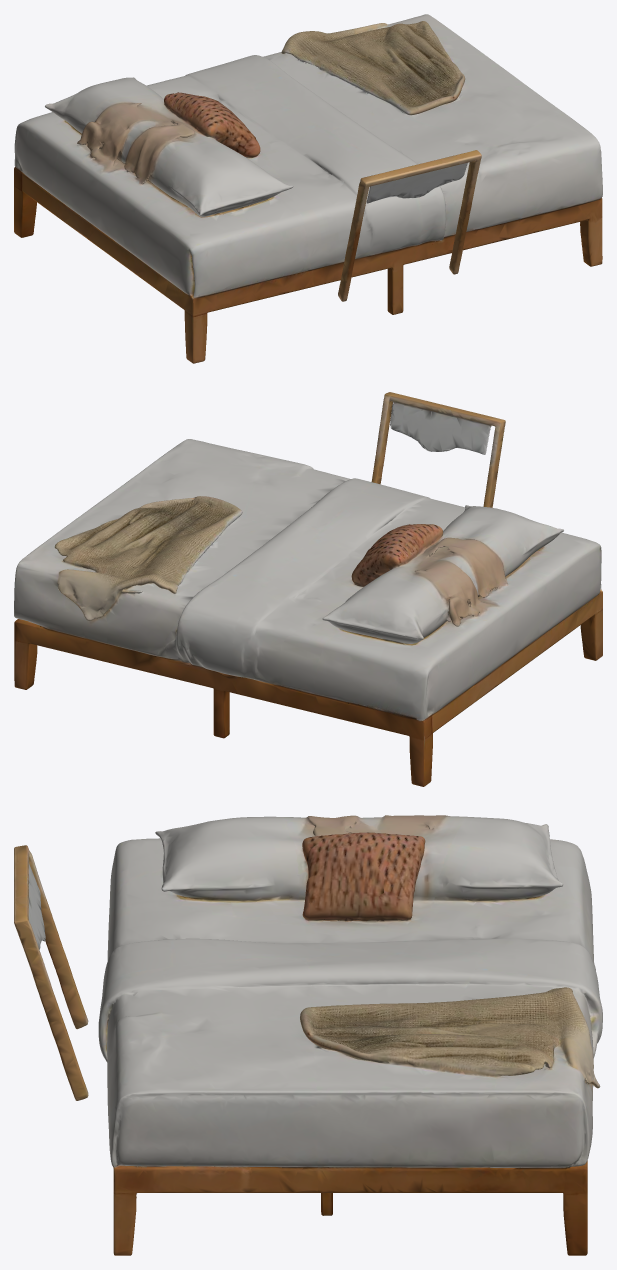
The model's file is B07DZT2SZ3.glb.
The picture shows the model from 3 angles, top to bottom: view 1: azimuth 30°, elevation 25°; view 2: azimuth 150°, elevation 25°; view 3: azimuth 270°, elevation 25°; orthographic projection. The views are drawn at different scales.
Parts seen in each view (by area): view 1: tripo_node_adc53708-8f0a-4a37-9abb-b9cfe8a7de7b; view 2: tripo_node_adc53708-8f0a-4a37-9abb-b9cfe8a7de7b; view 3: tripo_node_adc53708-8f0a-4a37-9abb-b9cfe8a7de7b.
Part boxes in pixels (left/top/right/bottom): tripo_node_adc53708-8f0a-4a37-9abb-b9cfe8a7de7b: left=14, top=14, right=602, bottom=363; tripo_node_adc53708-8f0a-4a37-9abb-b9cfe8a7de7b: left=14, top=392, right=602, bottom=786; tripo_node_adc53708-8f0a-4a37-9abb-b9cfe8a7de7b: left=14, top=815, right=602, bottom=1255.
Size of the model in its own units: 1 by 0.4059 by 0.9233.
Materials: 1 (1 with a texture image).
